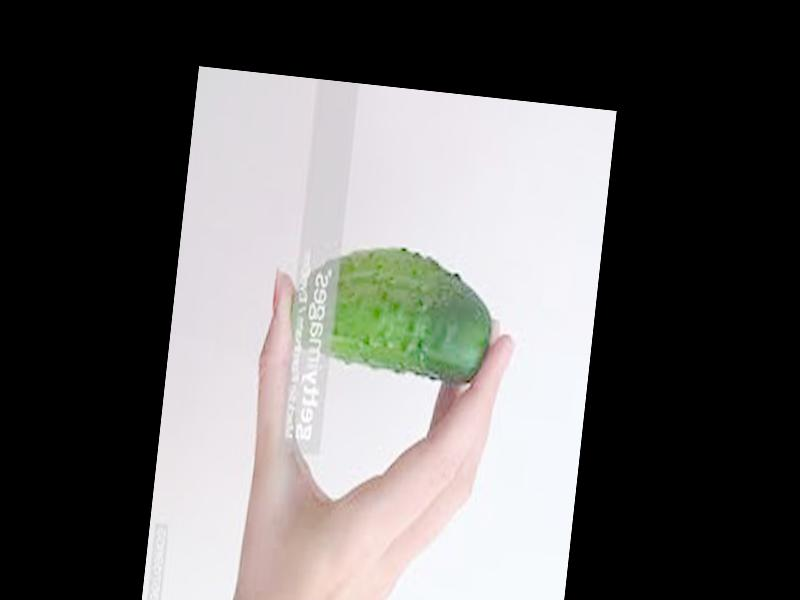Cucumber: (284, 236, 499, 385)
